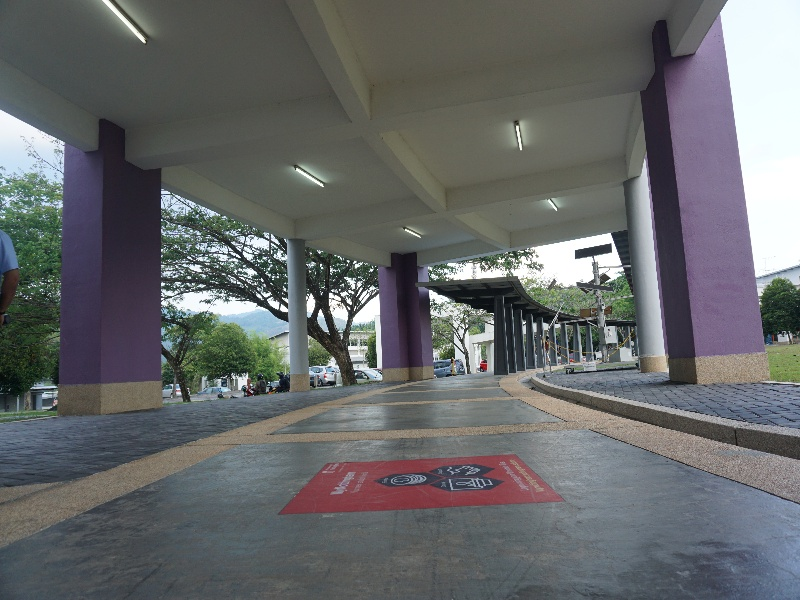Block D Pillar 4: (13, 10, 800, 505)
pillar: (635, 24, 774, 393), (56, 107, 167, 417), (376, 249, 439, 388), (286, 234, 311, 386), (491, 289, 512, 379)
